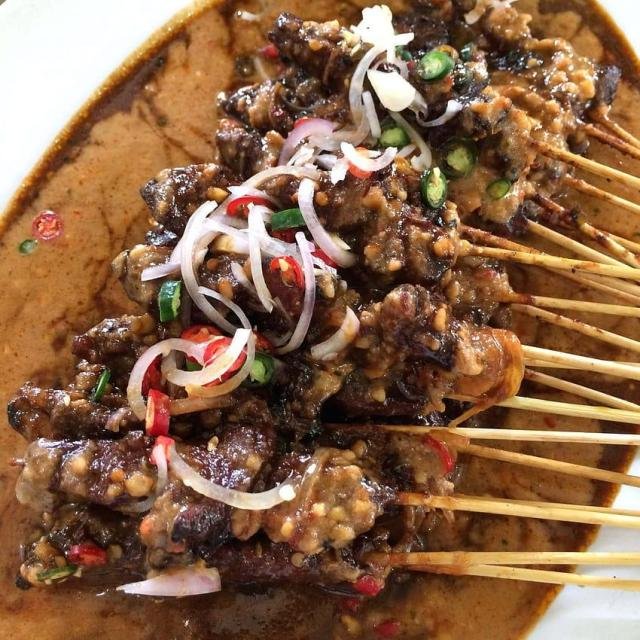Sate: (102, 22, 601, 611)
